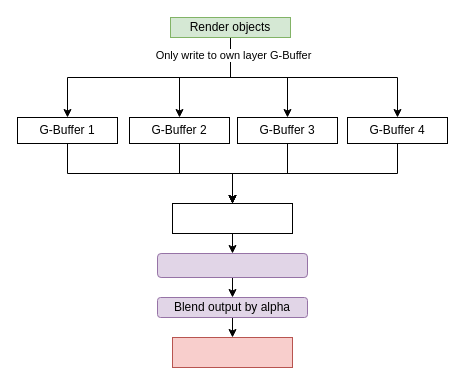
The diagram is 465 pixels wide and 385 high, and some of its shapes have lost their labels. The box of each missing label's shape, as (x1, y1, x2, y2) in pixels:
Compositor shader: (172, 202, 292, 234)
Depth test and alpha sort: (156, 252, 308, 278)
Framebuffer: (172, 336, 292, 368)
